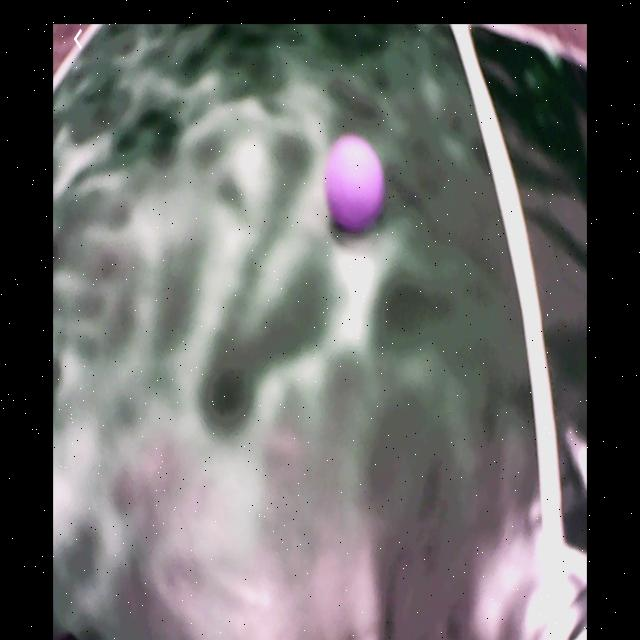ball: (327, 134, 384, 229)
